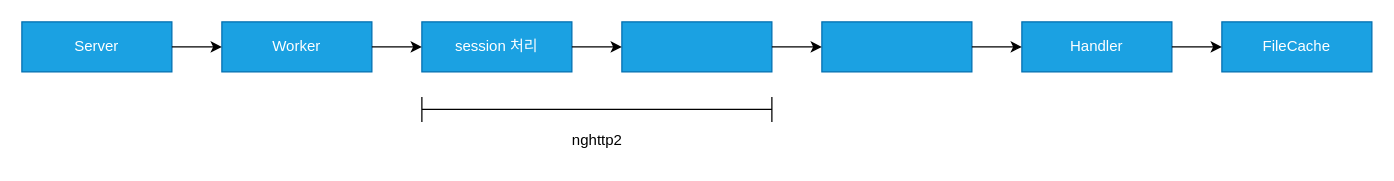
Image size: 1394x181. Some labels were removed from this diagram. Here are the shapes that lost their labels. From the top down, the box of each, then its label:
(621, 21, 772, 72): stream 처리
(821, 21, 972, 72): Router
